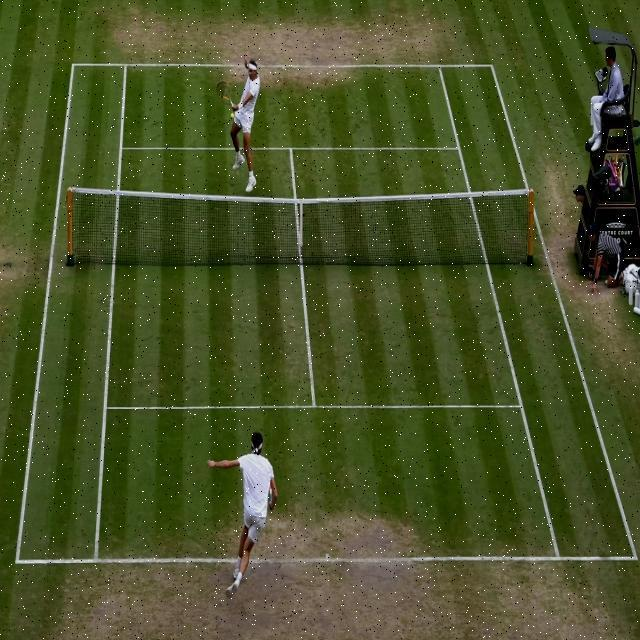left side: (438, 65, 637, 560), (16, 64, 127, 563)
player: (207, 430, 279, 598), (217, 54, 261, 192)
